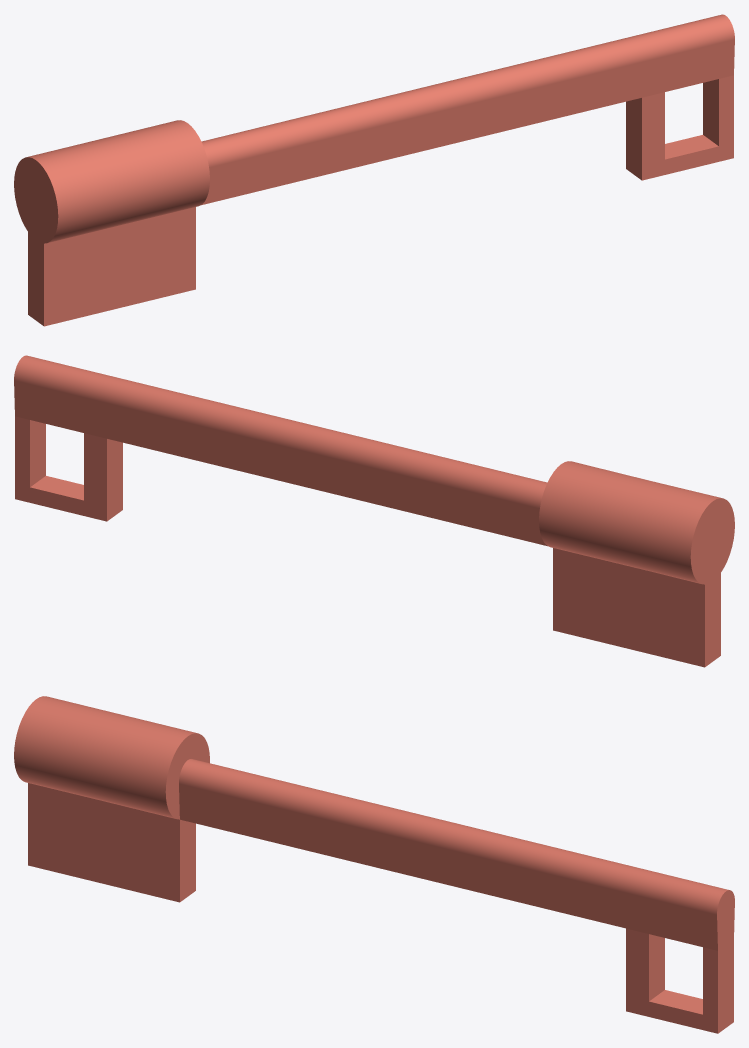
The model's file is clef.gltf.
3 renders of one model, top to bottom at view 1: azimuth 30°, elevation 25°; view 2: azimuth 150°, elevation 25°; view 3: azimuth 330°, elevation 25°, orthographic.
Visible parts, largest first — view 1: cle.001; view 2: cle.001; view 3: cle.001.
Part boxes in pixels (x1=…): cle.001: x1=14, y1=14, x2=734, y2=326; cle.001: x1=14, y1=355, x2=734, y2=667; cle.001: x1=14, y1=696, x2=734, y2=1033.
Bounding box in the file's own units: 0.15 × 0.0333 × 0.0167.
